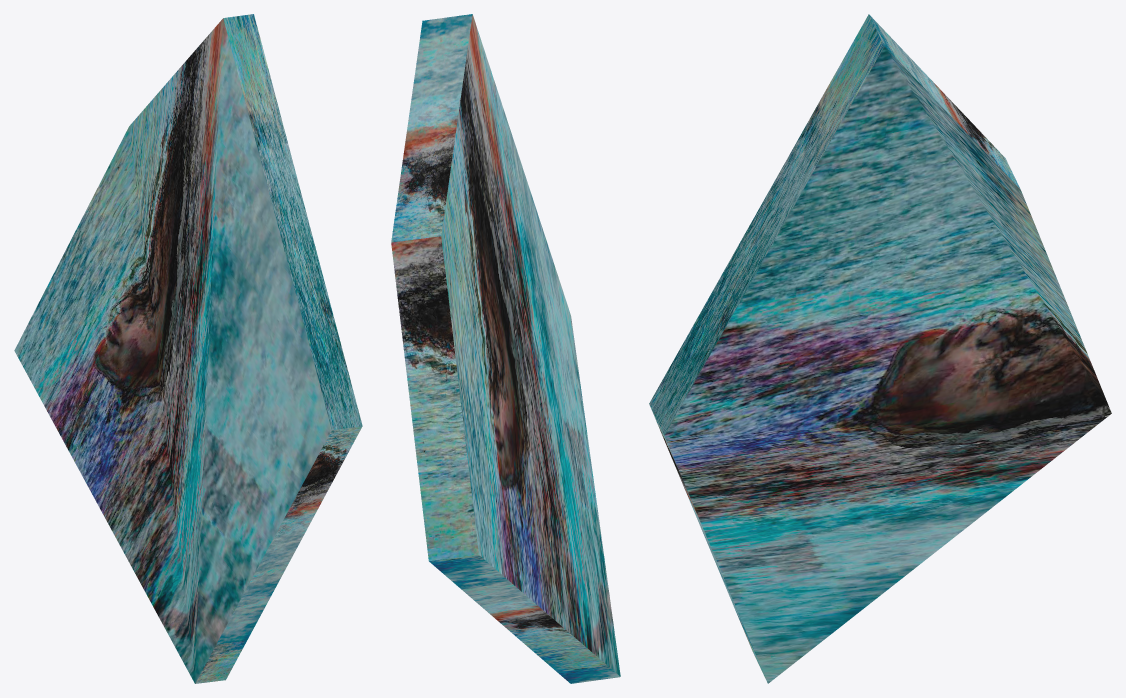
The model's file is etudiant1.gltf.
3 views of the same model, side by side, from view 1: azimuth 30°, elevation 25°; view 2: azimuth 150°, elevation 25°; view 3: azimuth 270°, elevation 25° (orthographic). The views are drawn at different scales.
Visible parts, largest first — view 1: etudiant1; view 2: etudiant1; view 3: etudiant1.
Part boxes in pixels (left/top/right/bottom): etudiant1: left=14, top=14, right=362, bottom=683; etudiant1: left=391, top=14, right=620, bottom=683; etudiant1: left=649, top=14, right=1111, bottom=683.
Size of the model in its own units: 4.28 by 16.27 by 9.85.
1 material, 1 textured.
